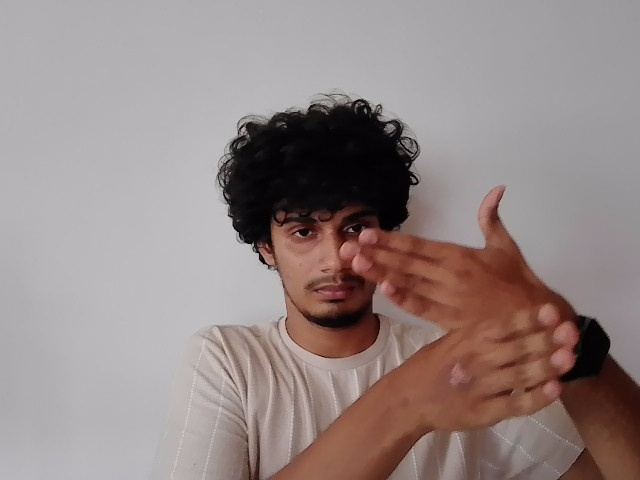busy: (337, 181, 581, 428)
